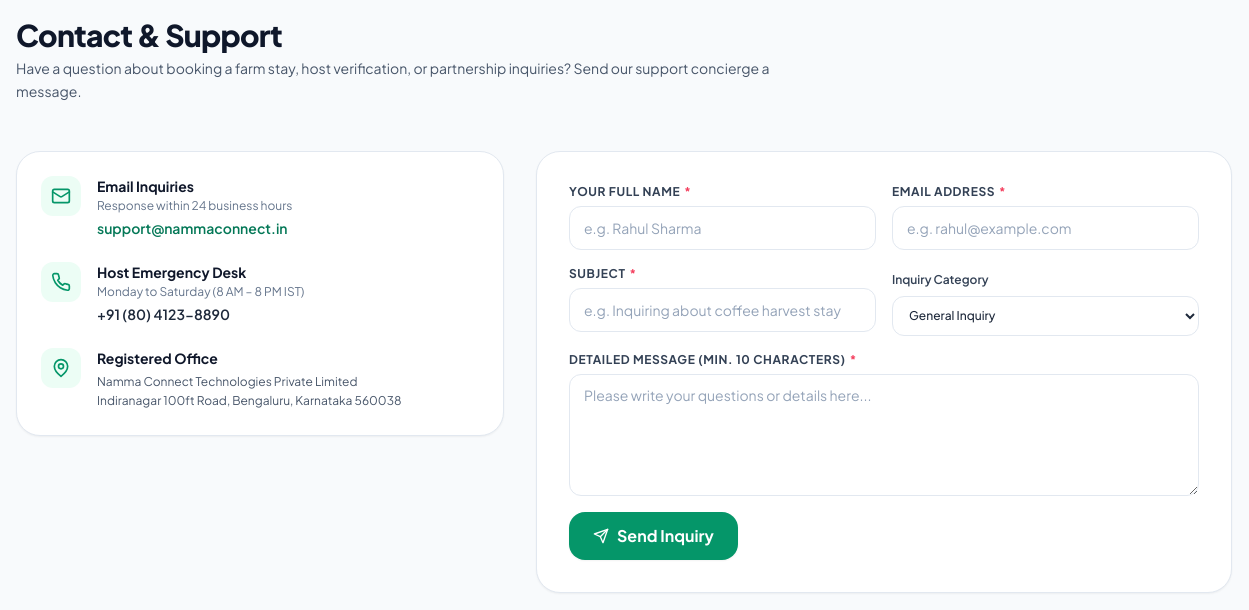
Test: Public Website Component & Page Suite › renders ContactPage and handles message form submission
The width and height of the screenshot is (1249, 610).
Expected: the heading "Contact & Support" is shown, [16,16,282,54]
Type "Aarav Gupta" into the field labelled "Your Full Name*" at (722, 228), box [569,206,876,250]
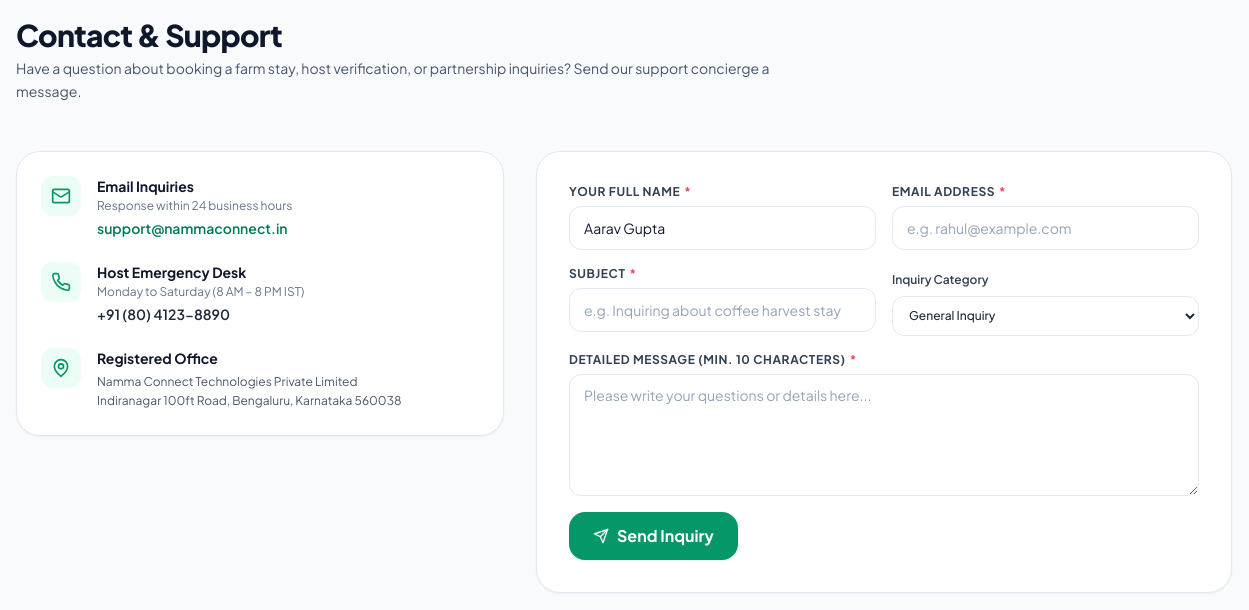
Type "aarav@example.com" into the field labelled "Email Address*" at (1046, 228), box [892,206,1199,250]
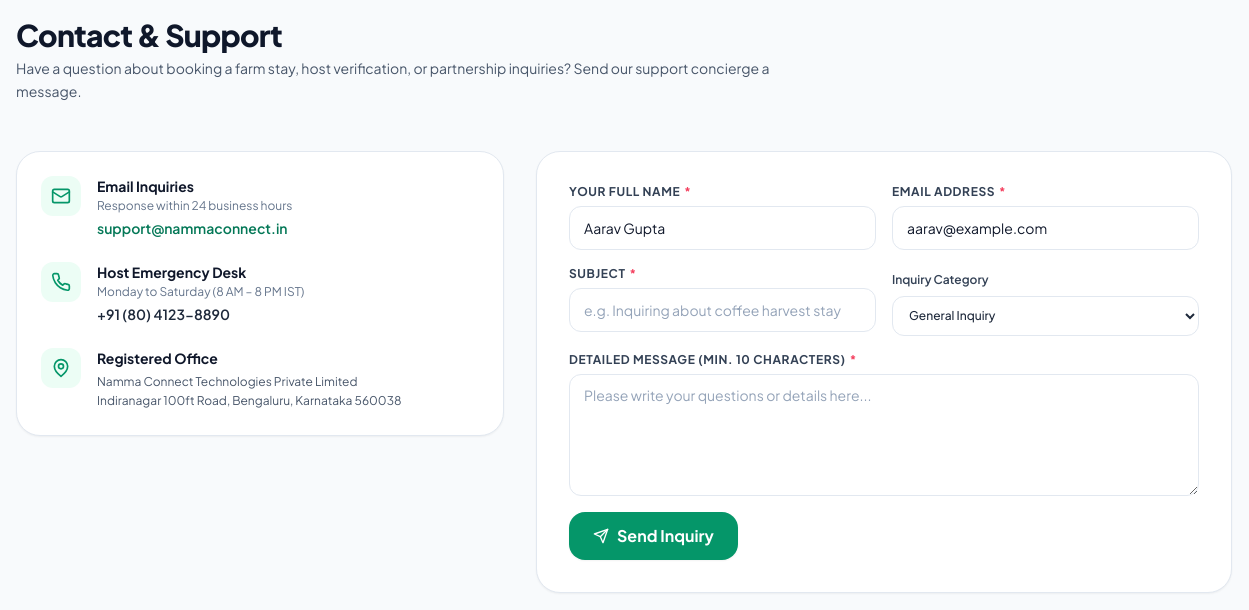
Type "Homestay query" into the field labelled "Subject*" at (722, 310), box [569,288,876,332]
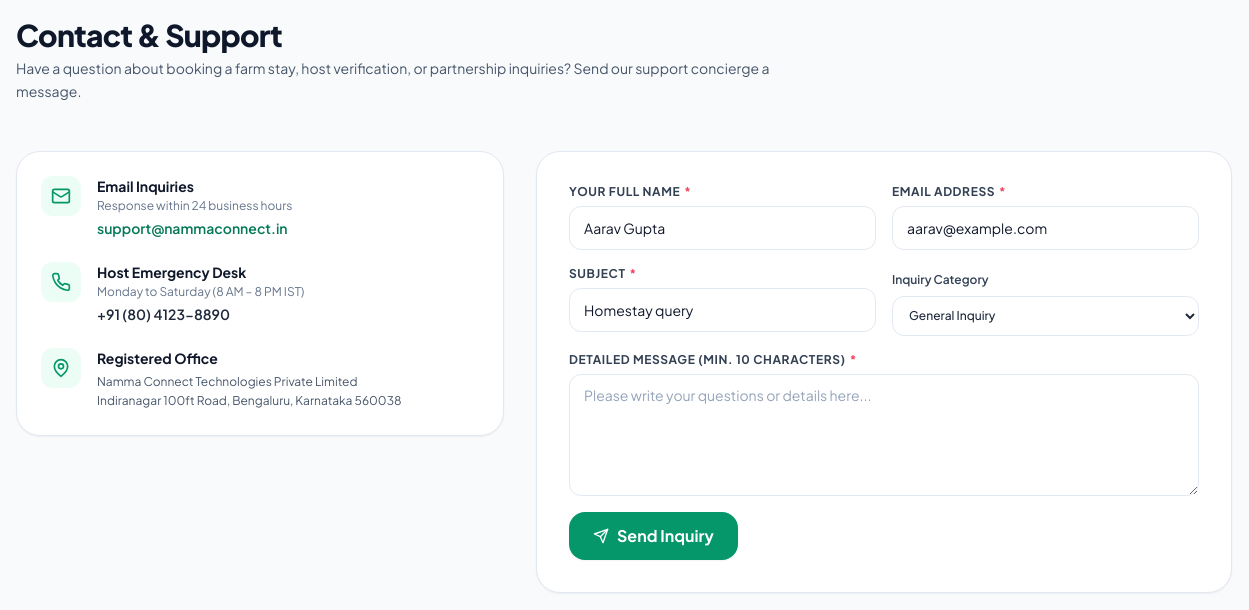
Type "I want to visit Coorg next month." into the text box labelled "Detailed Message (Min. 10 characters)*" at (884, 434), box [569,374,1199,496]
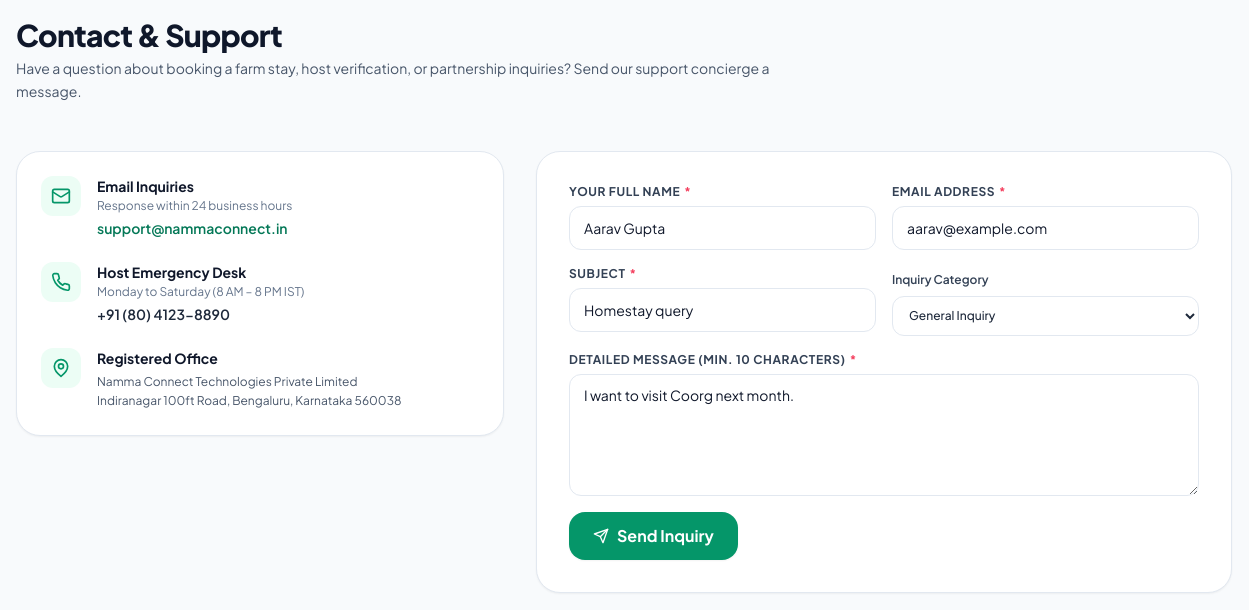
Click the button "Send Inquiry" at (653, 536), box [569,512,738,560]
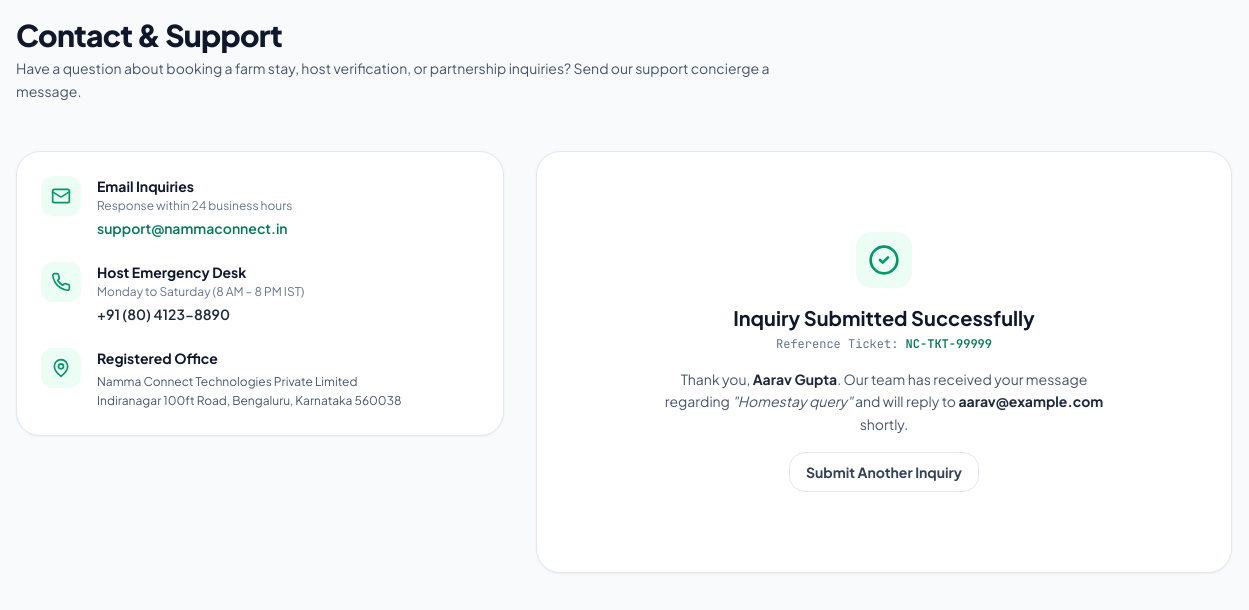
Expected: the heading "Inquiry Submitted Successfully" is shown, [733,304,1035,330]
